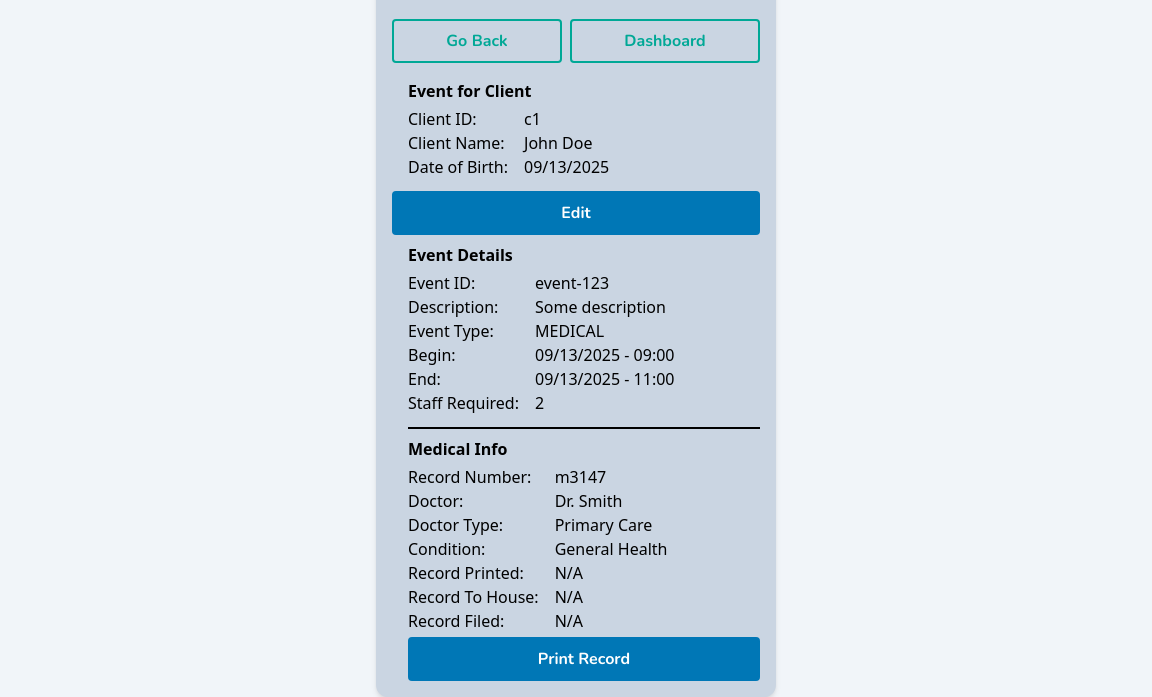
Test: View Event Page › closes the modal when no is clicked
The width and height of the screenshot is (1152, 697).
(page scrolled)
Click the button "Print Record".
click(584, 659)  # box [408, 637, 760, 681]
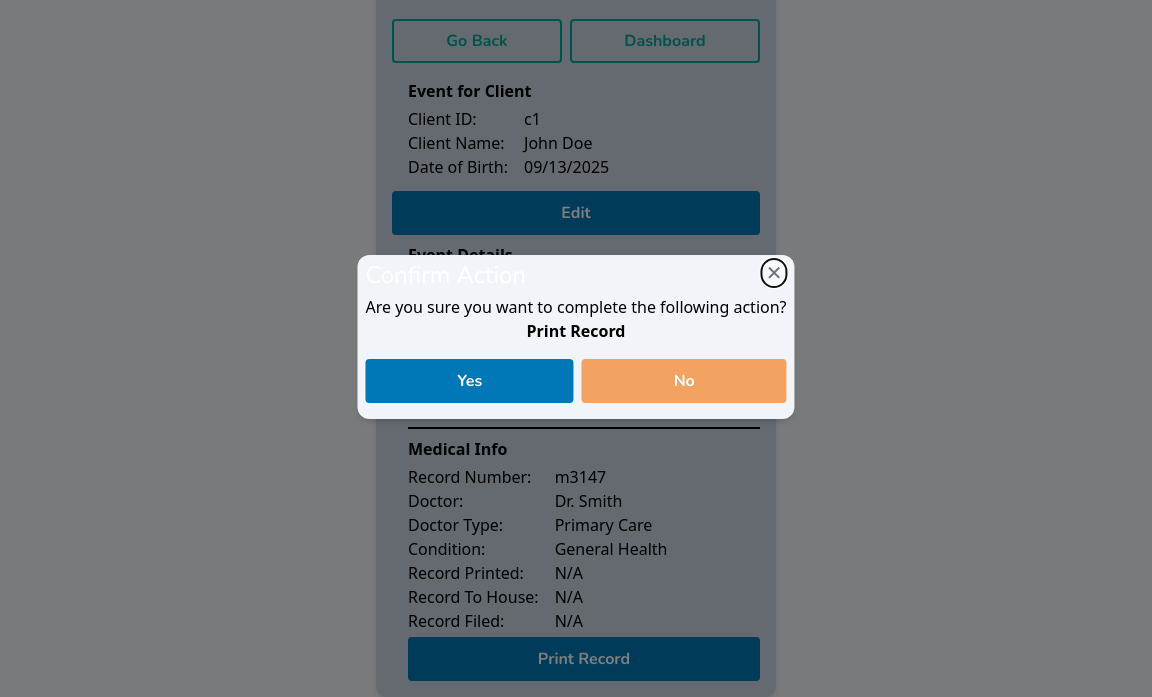
Click the button "No".
click(684, 381)  # box [582, 359, 786, 403]
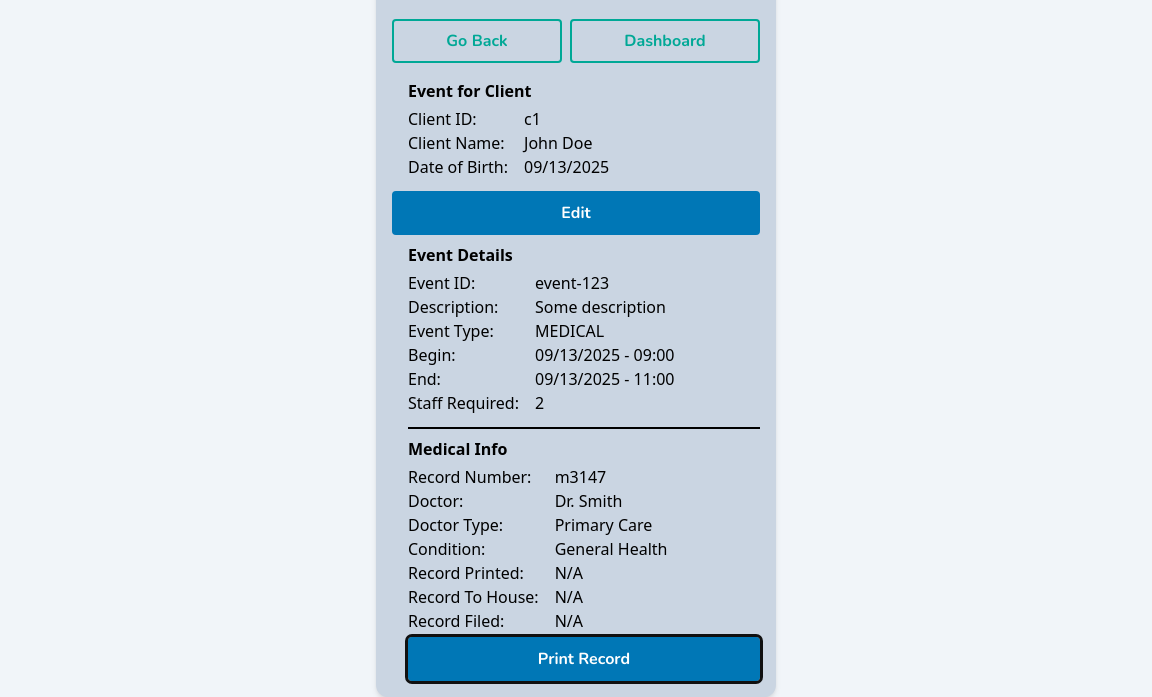
Expected: the heading "Confirm Action" is gone
